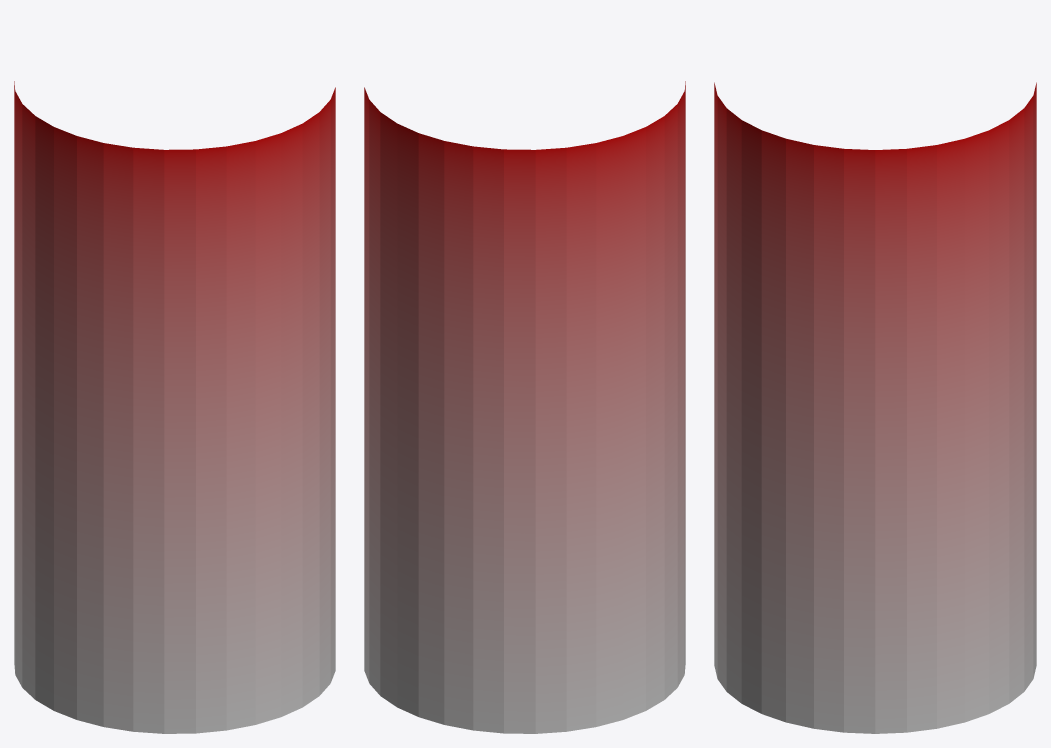
The model's file is LightTEST.glb.
The picture shows the model from 3 angles, left to right: view 1: azimuth 30°, elevation 25°; view 2: azimuth 150°, elevation 25°; view 3: azimuth 270°, elevation 25°; orthographic projection.
Parts seen in each view (by area): view 1: LightTEST; view 2: LightTEST; view 3: LightTEST.
Part boxes in pixels (x1,y1,x2,y2): LightTEST: [14, 81, 335, 733]; LightTEST: [364, 81, 685, 733]; LightTEST: [714, 82, 1036, 733].
Size of the model in its own units: 2 by 4 by 2.
